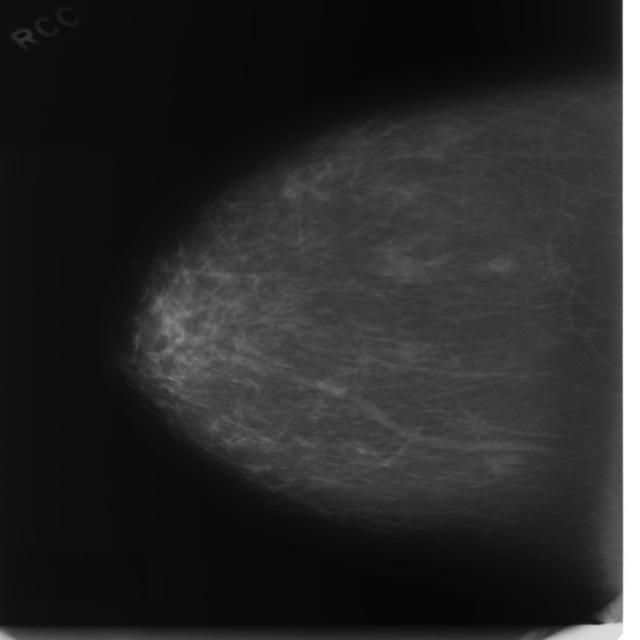tumour: (486, 256, 514, 271)
